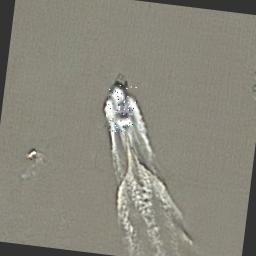boat: (104, 84, 138, 134), (25, 146, 37, 160)
